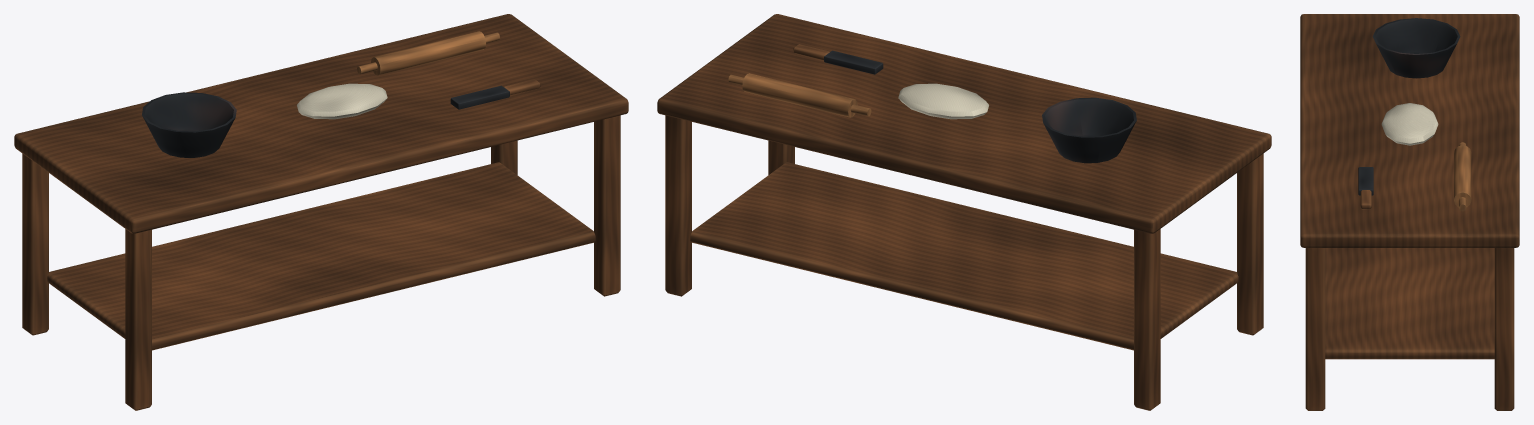
Rendered from Furn_Cook_Island.fbx.
The picture shows the model from 3 angles, left to right: view 1: azimuth 30°, elevation 25°; view 2: azimuth 150°, elevation 25°; view 3: azimuth 270°, elevation 25°; orthographic projection. The views are drawn at different scales.
Parts seen in each view (by area): view 1: Furn_Cook_Island; view 2: Furn_Cook_Island; view 3: Furn_Cook_Island.
Part boxes in pixels (bbox=[...]): Furn_Cook_Island: bbox=[14, 14, 628, 410]; Furn_Cook_Island: bbox=[657, 14, 1271, 410]; Furn_Cook_Island: bbox=[1300, 14, 1519, 410].
Size of the model in its own units: 2.4 by 1.05 by 1.
4 materials, 4 textured.
